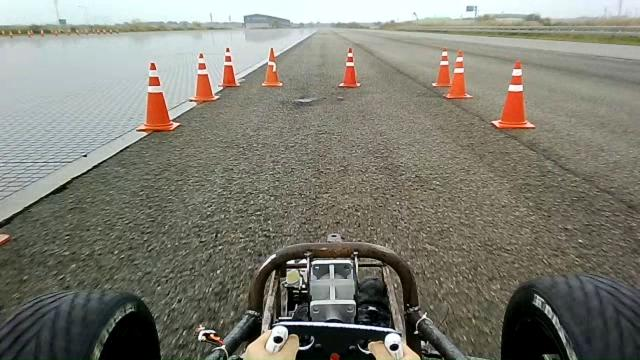red cone: (135, 61, 181, 132), (491, 59, 536, 130), (188, 52, 220, 103), (442, 49, 473, 99), (338, 46, 361, 88), (218, 47, 240, 88), (261, 47, 283, 87), (431, 47, 452, 87)
